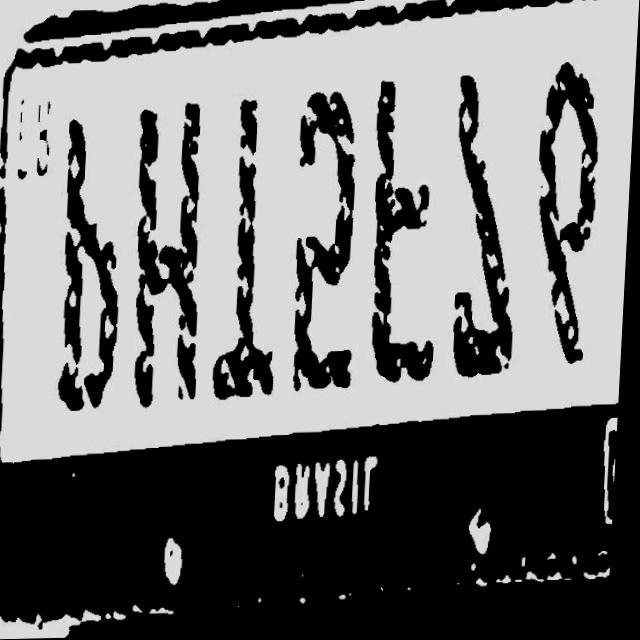5: (287, 90, 372, 404)
6: (521, 56, 613, 376)
7: (446, 59, 530, 393)
f: (360, 72, 457, 402)
h: (127, 94, 215, 429)
p: (49, 114, 136, 421)
t: (212, 99, 291, 417)
